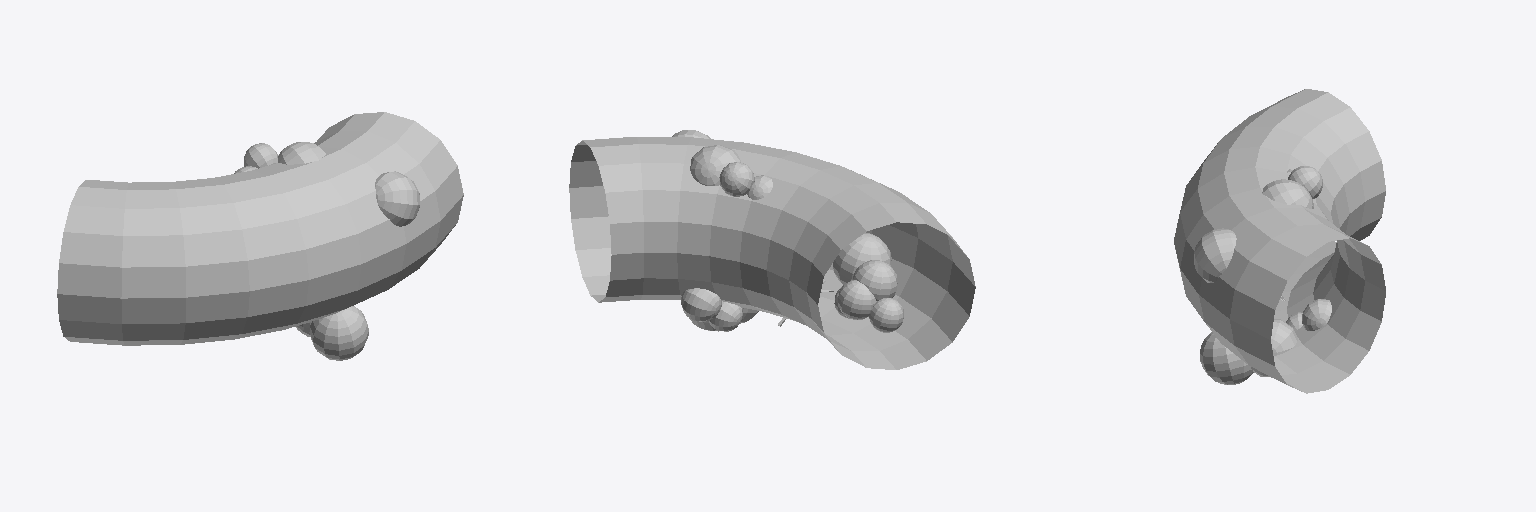
3 views of the same model, side by side, from view 1: azimuth 30°, elevation 25°; view 2: azimuth 150°, elevation 25°; view 3: azimuth 270°, elevation 25° (orthographic).
Parts seen in each view (by area): view 1: lCurve_B; view 2: lCurve_B; view 3: lCurve_B.
Part boxes in pixels (bbox=[...]): lCurve_B: bbox=[57, 112, 463, 360]; lCurve_B: bbox=[569, 130, 975, 369]; lCurve_B: bbox=[1174, 89, 1385, 393].
Size of the model in its own units: 236 by 109 by 107.